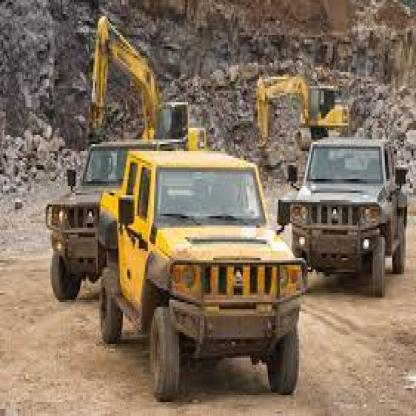excavator: (82, 12, 216, 179), (249, 65, 366, 179)
light_vehicle: (94, 141, 318, 400), (46, 130, 188, 339), (282, 119, 414, 304)
